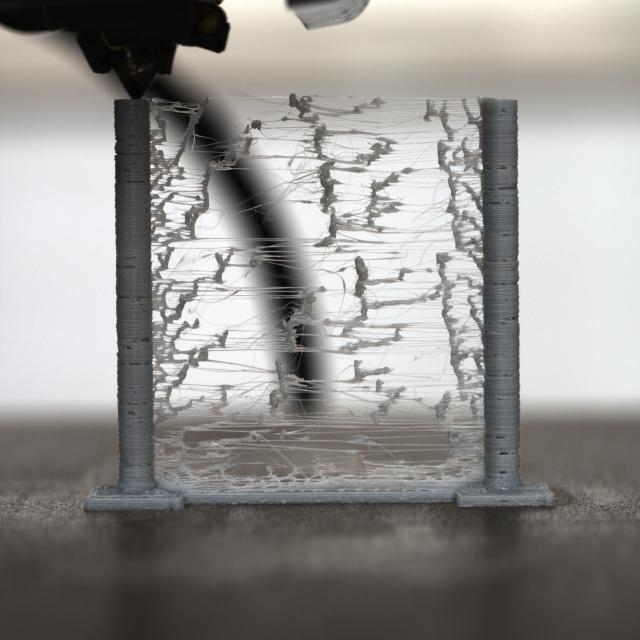Warping: (152, 95, 483, 501)
